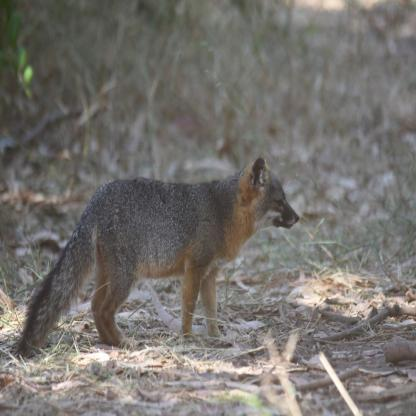zorro: (13, 149, 302, 364)
